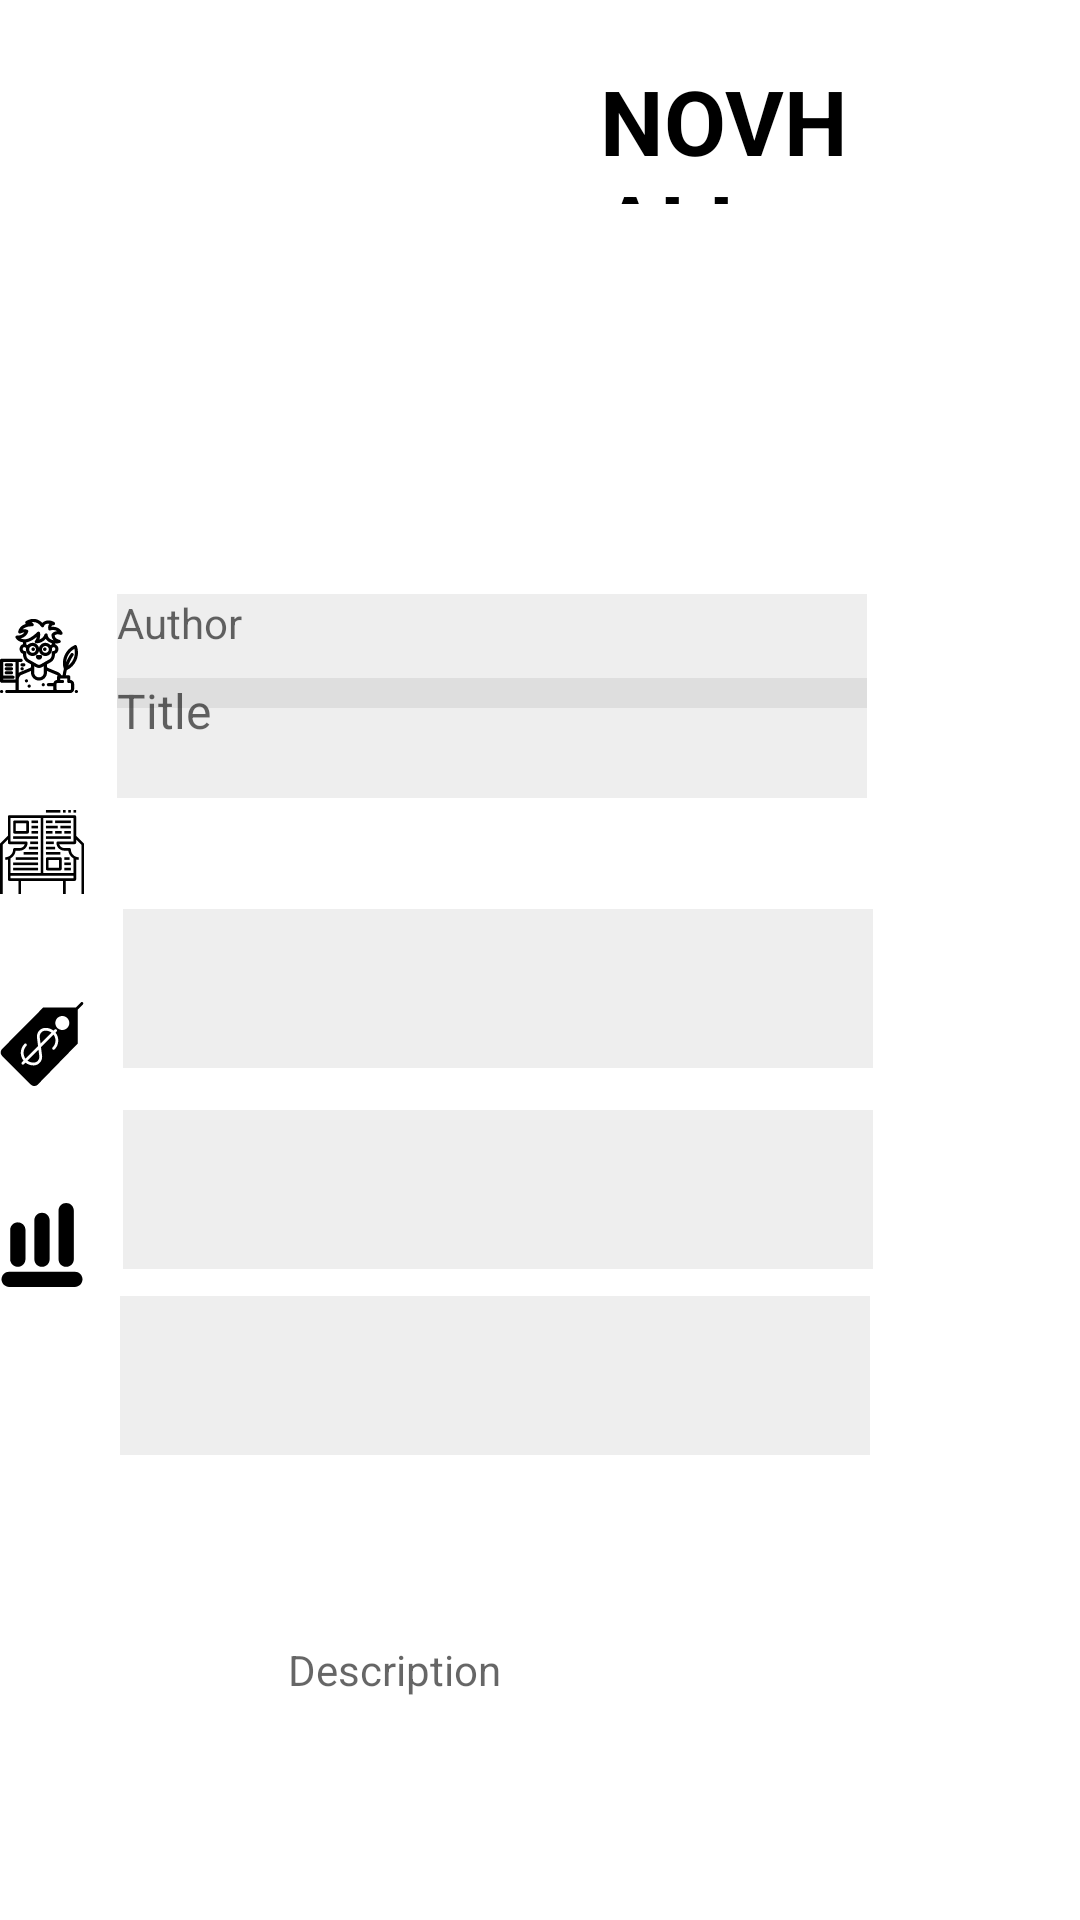

Point at icon controls on the screen. Image size 1080x1920, points as (x,y).
price tag: (42,1044)
reading: (42,852)
stock increase: (42,1245)
writer: (39,656)
